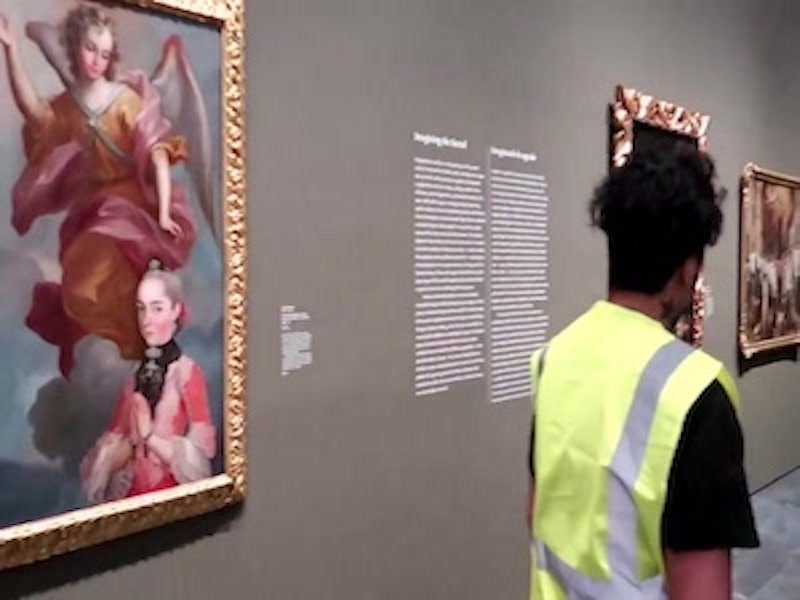vest: (524, 303, 731, 600)
